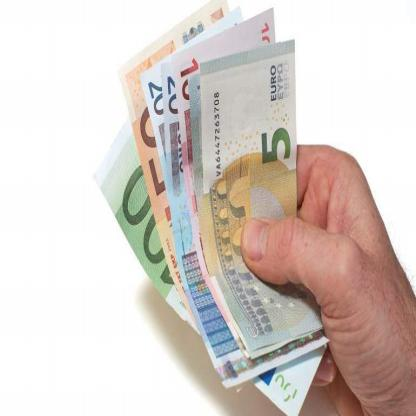billete: (91, 0, 333, 415)
